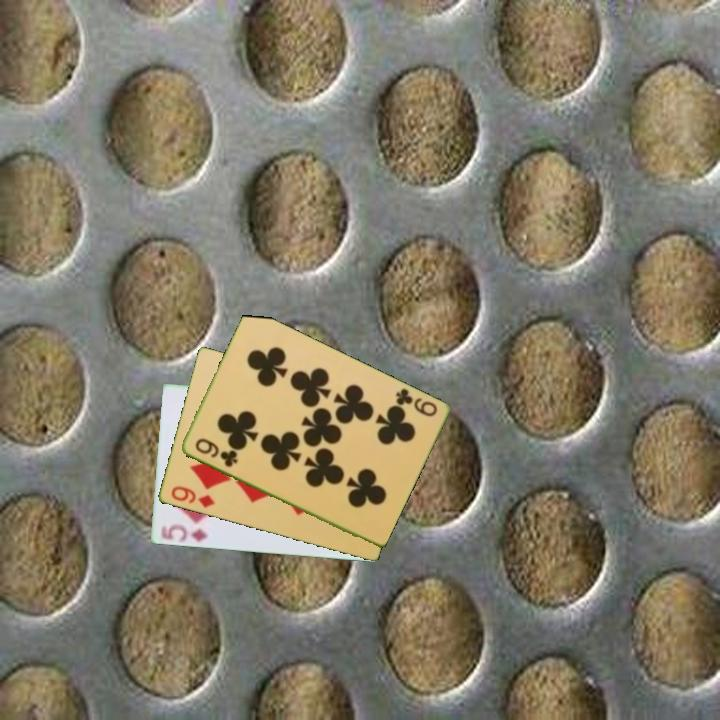5d: (156, 521, 211, 545)
9c: (191, 435, 240, 470), (391, 385, 440, 420)
9d: (167, 482, 218, 511)
